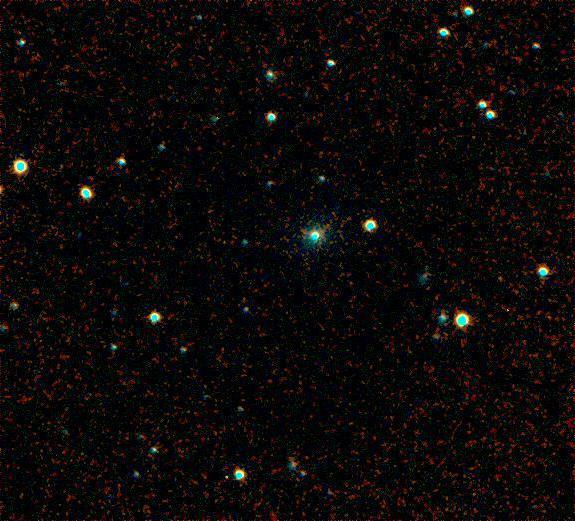star: (491, 267, 521, 297)
